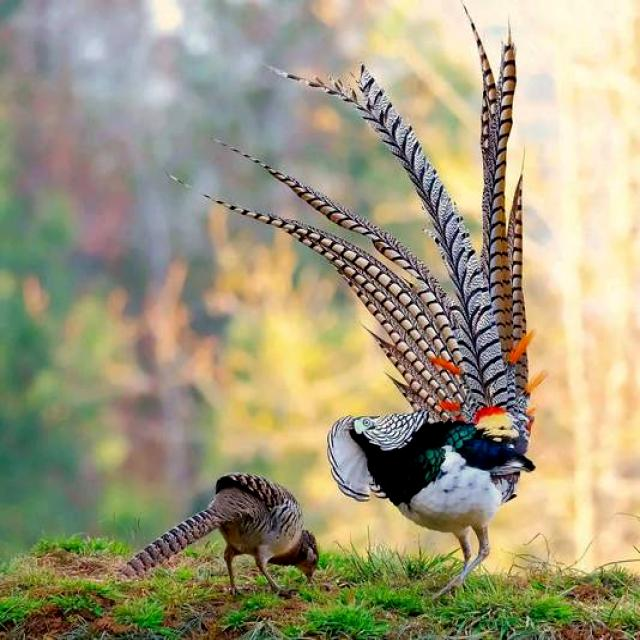Chrysolophus amherstiae: (204, 70, 524, 421)
